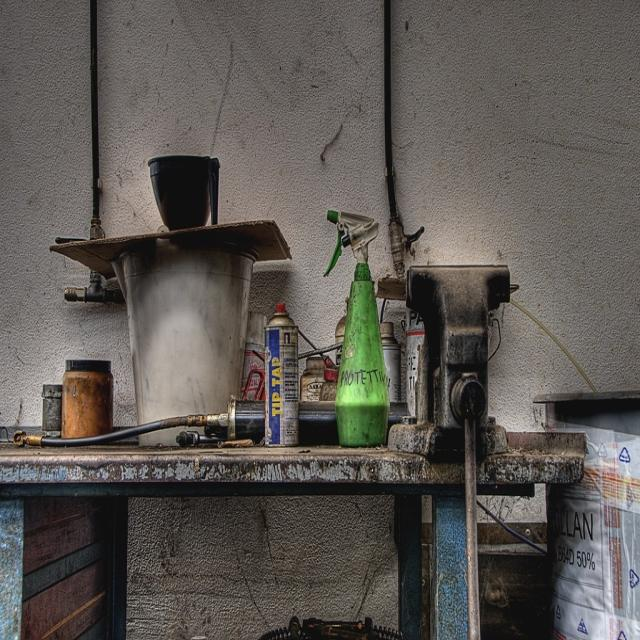Metal: (400, 218, 521, 442), (7, 400, 232, 460)
Plastics: (326, 205, 397, 446), (128, 141, 240, 234)
can: (252, 285, 308, 447)
